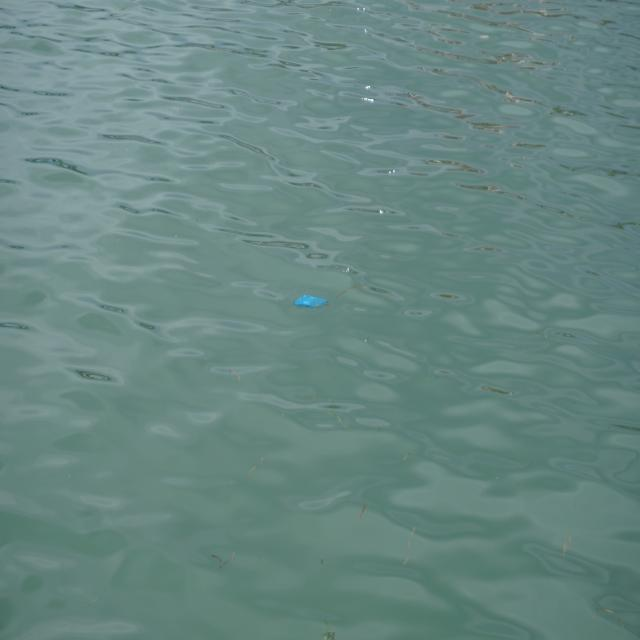Kantong Plastik: (295, 284, 332, 319)
